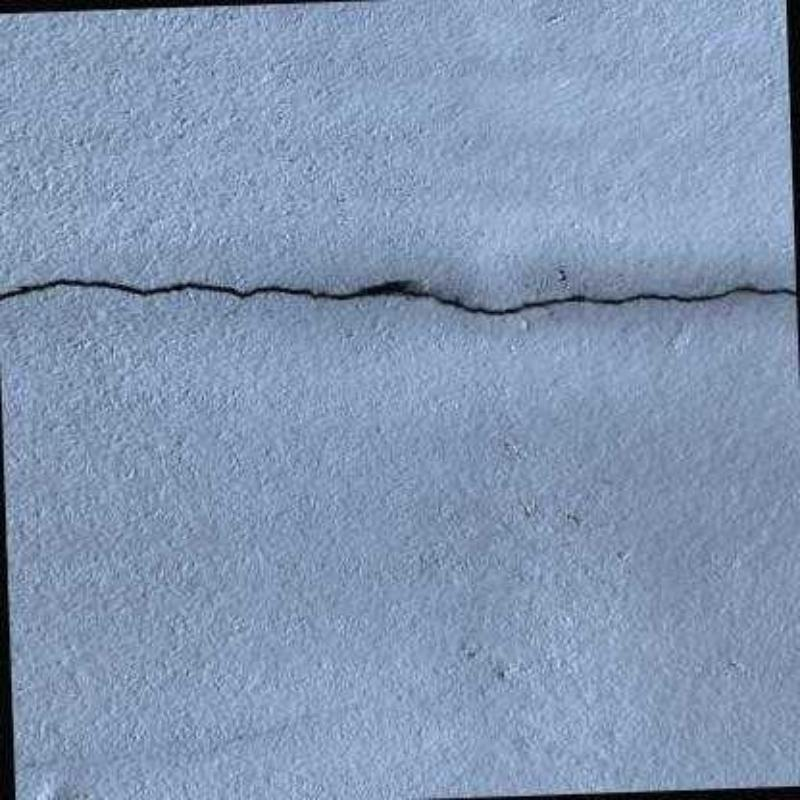pothole: (0, 278, 797, 316)
